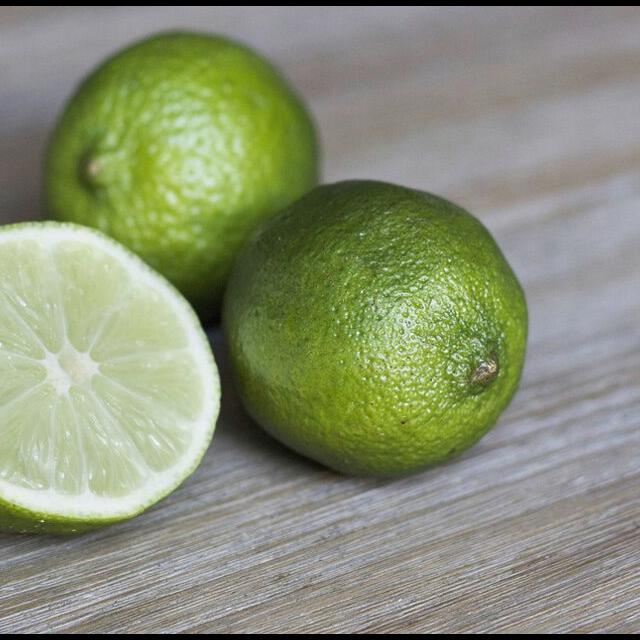lime: (215, 165, 542, 484), (32, 22, 325, 322)
